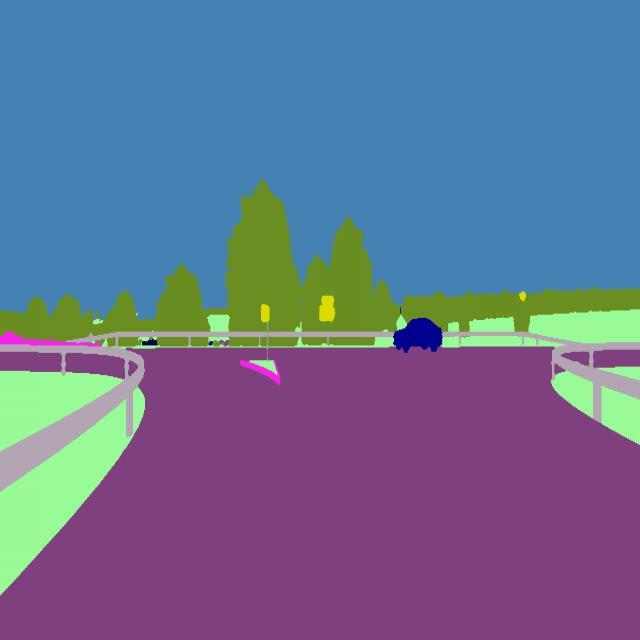safe: (392, 315, 446, 359)
